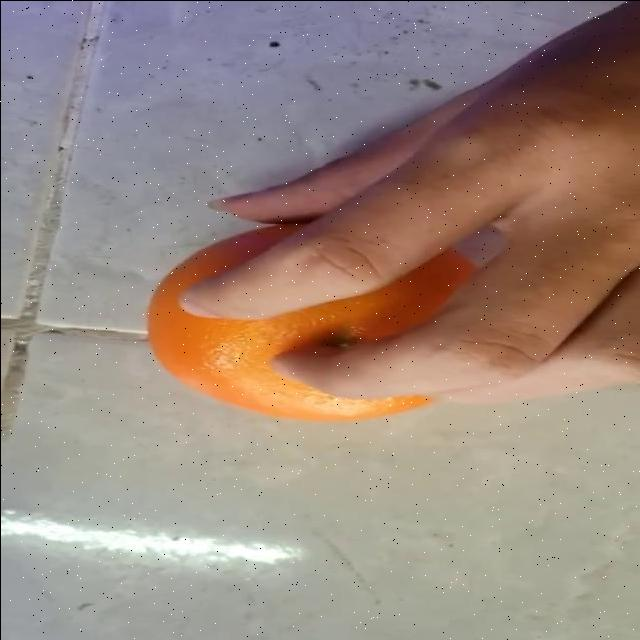Orange: (146, 221, 478, 424)
